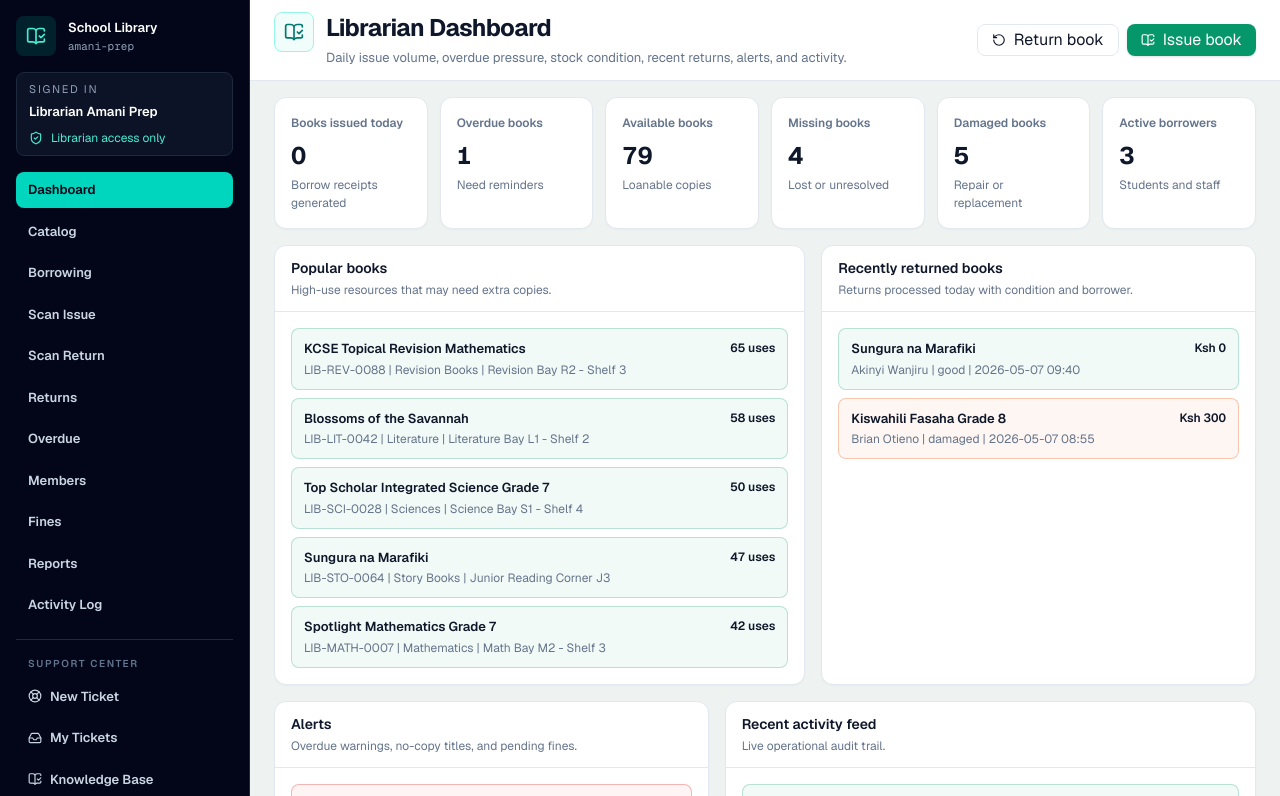
Test: librarian library workspace › renders a dense librarian dashboard without finance, payroll, or admin exposure
Expected: the heading "Librarian Dashboard" is shown, [326,12,551,43]
Expected: the text "Books issued today" is shown, [291,114,411,132]
Click the button "Issue book" at point(1191, 40), box [1127,24,1256,56]
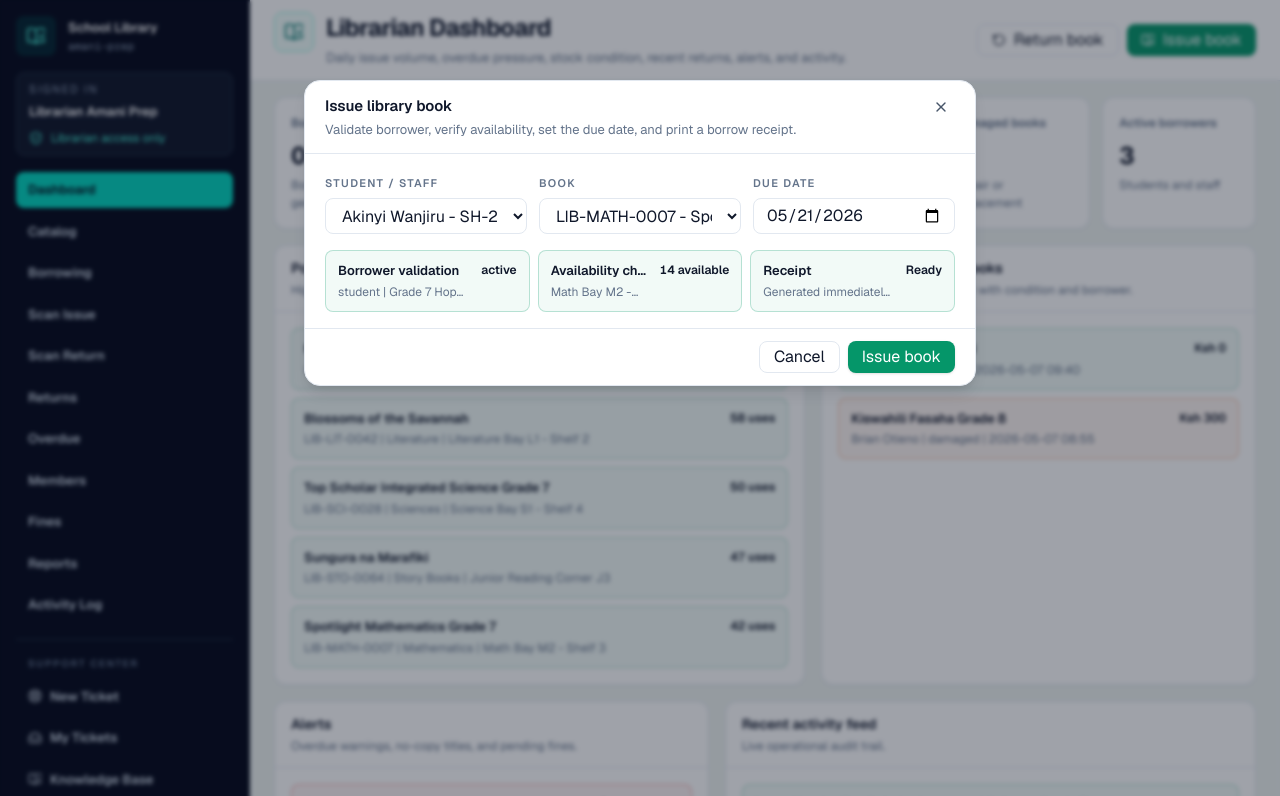
Result: the heading "Issue library book" is shown at [325,96,452,115]
